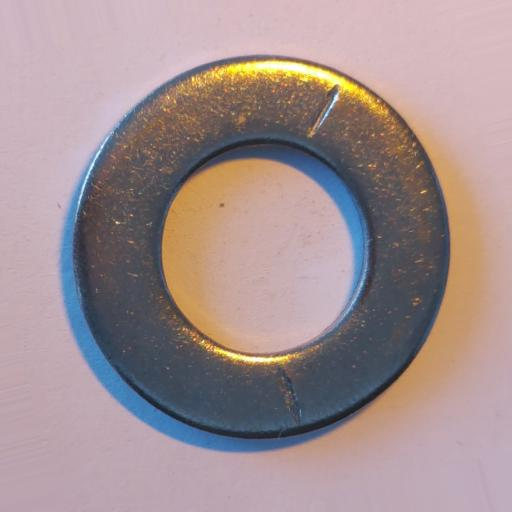scratch: (307, 84, 342, 136), (279, 367, 303, 426)
